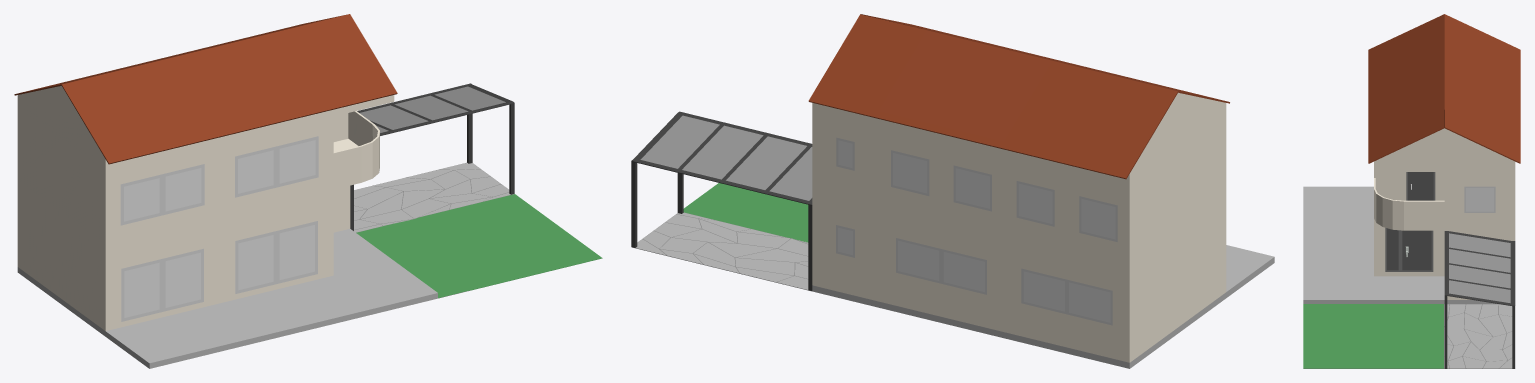
Rendered from house_a1.fbx.
The picture shows the model from 3 angles, left to right: view 1: azimuth 30°, elevation 25°; view 2: azimuth 150°, elevation 25°; view 3: azimuth 270°, elevation 25°; orthographic projection. The views are drawn at different scales.
Visible parts, largest first — view 1: house, garage.floor, garage; view 2: house, garage.floor, garage; view 3: house, garage.floor, garage.
Boxes of the visible parts, x1,y1,x2,y2 form: house: (14,14,437,368); garage.floor: (354,162,602,298); garage: (350,83,514,230); house: (808,14,1274,368); garage.floor: (631,183,811,291); garage: (631,111,812,290); house: (1303,14,1520,303); garage.floor: (1303,304,1515,368); garage: (1444,231,1515,368).
Bounding box in the file's own units: 14.89 × 6.92 × 7.7.
